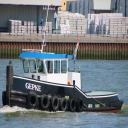tugboat: (3, 48, 126, 118)
